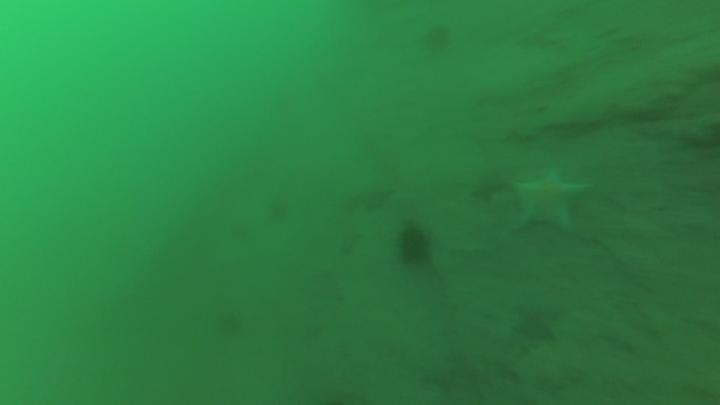echinus: (395, 218, 438, 270)
starfish: (513, 163, 595, 234), (511, 298, 567, 346)
